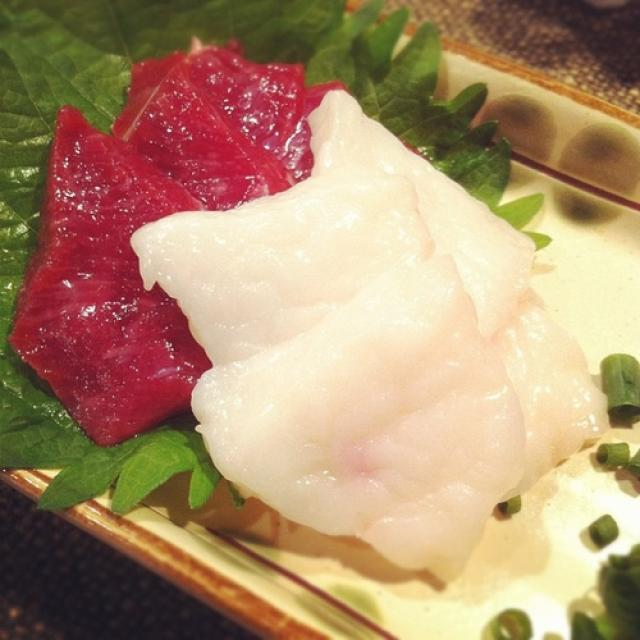刺身生食: (5, 8, 631, 626)
